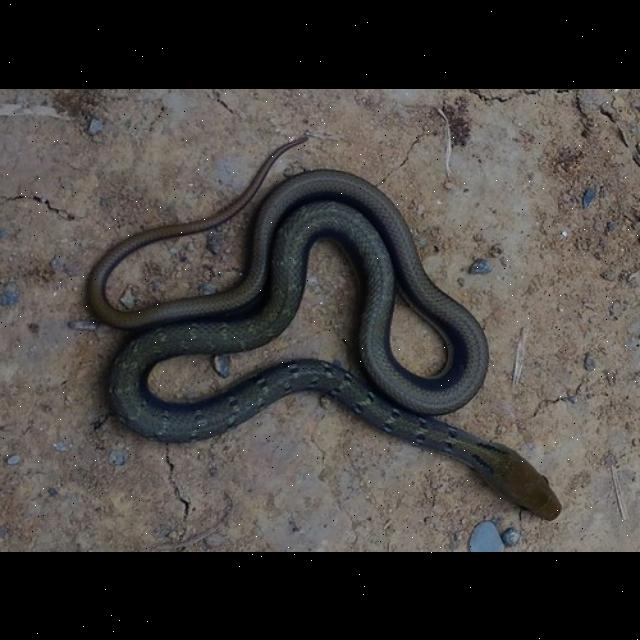snake: (82, 129, 562, 525)
